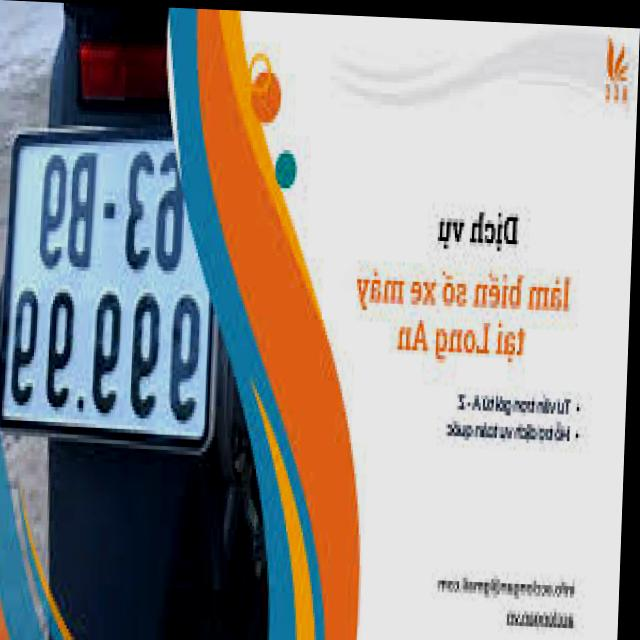a: (0, 127, 218, 448)
bien so: (3, 126, 221, 438)
